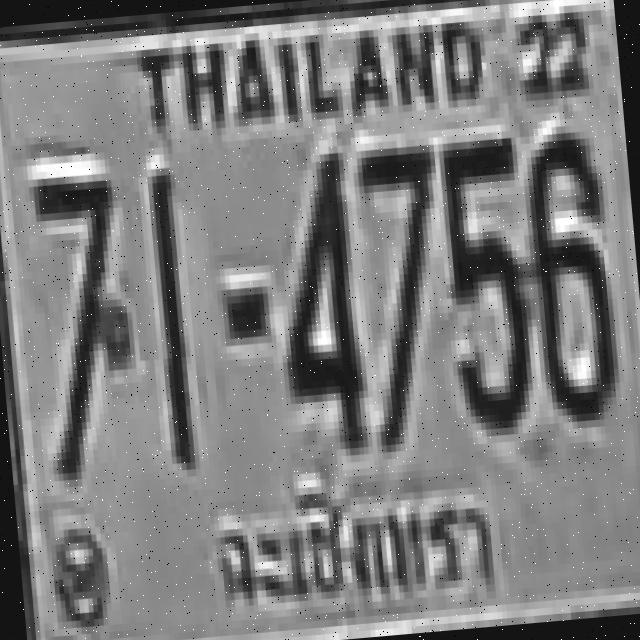1: (146, 168, 194, 456)
4: (264, 149, 362, 450)
5: (432, 130, 536, 432)
6: (519, 123, 617, 417)
7: (27, 162, 136, 478), (350, 137, 454, 446)
Chachoengsao: (208, 464, 504, 620)
